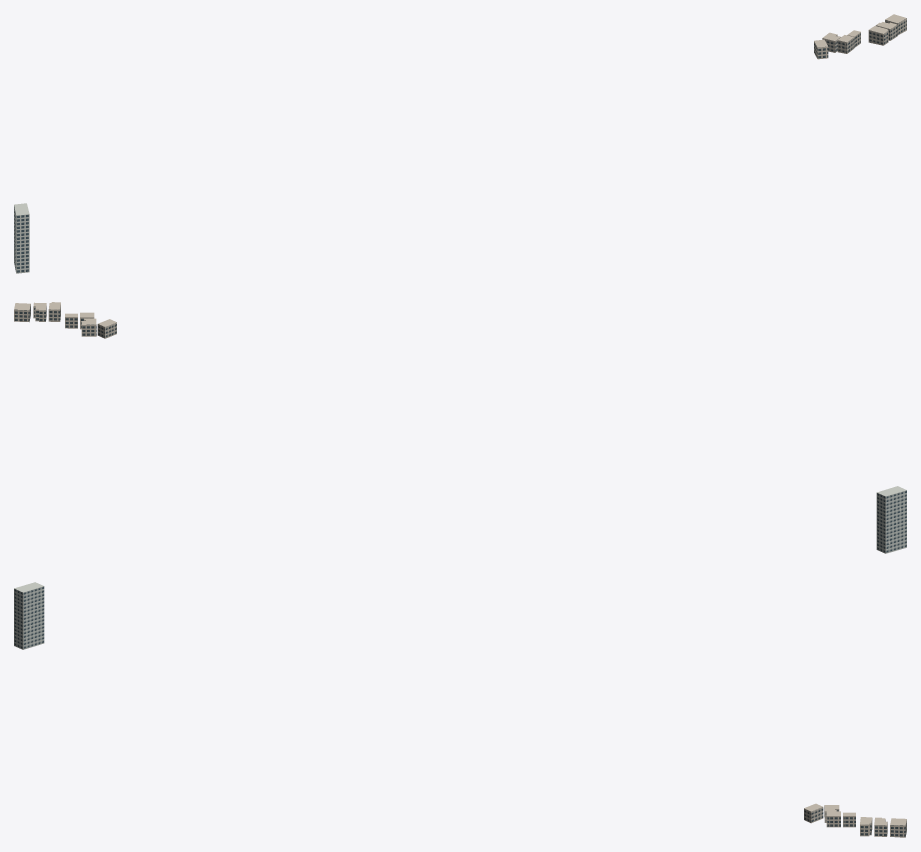
Rendered from city_2_-6.glb.
3 views of the same model, one above another, from view 1: azimuth 30°, elevation 25°; view 2: azimuth 150°, elevation 25°; view 3: azimuth 330°, elevation 25° (orthographic).
Size of the model in its own units: 825 by 51.17 by 29.74.
Materials: 2 (2 with a texture image).
